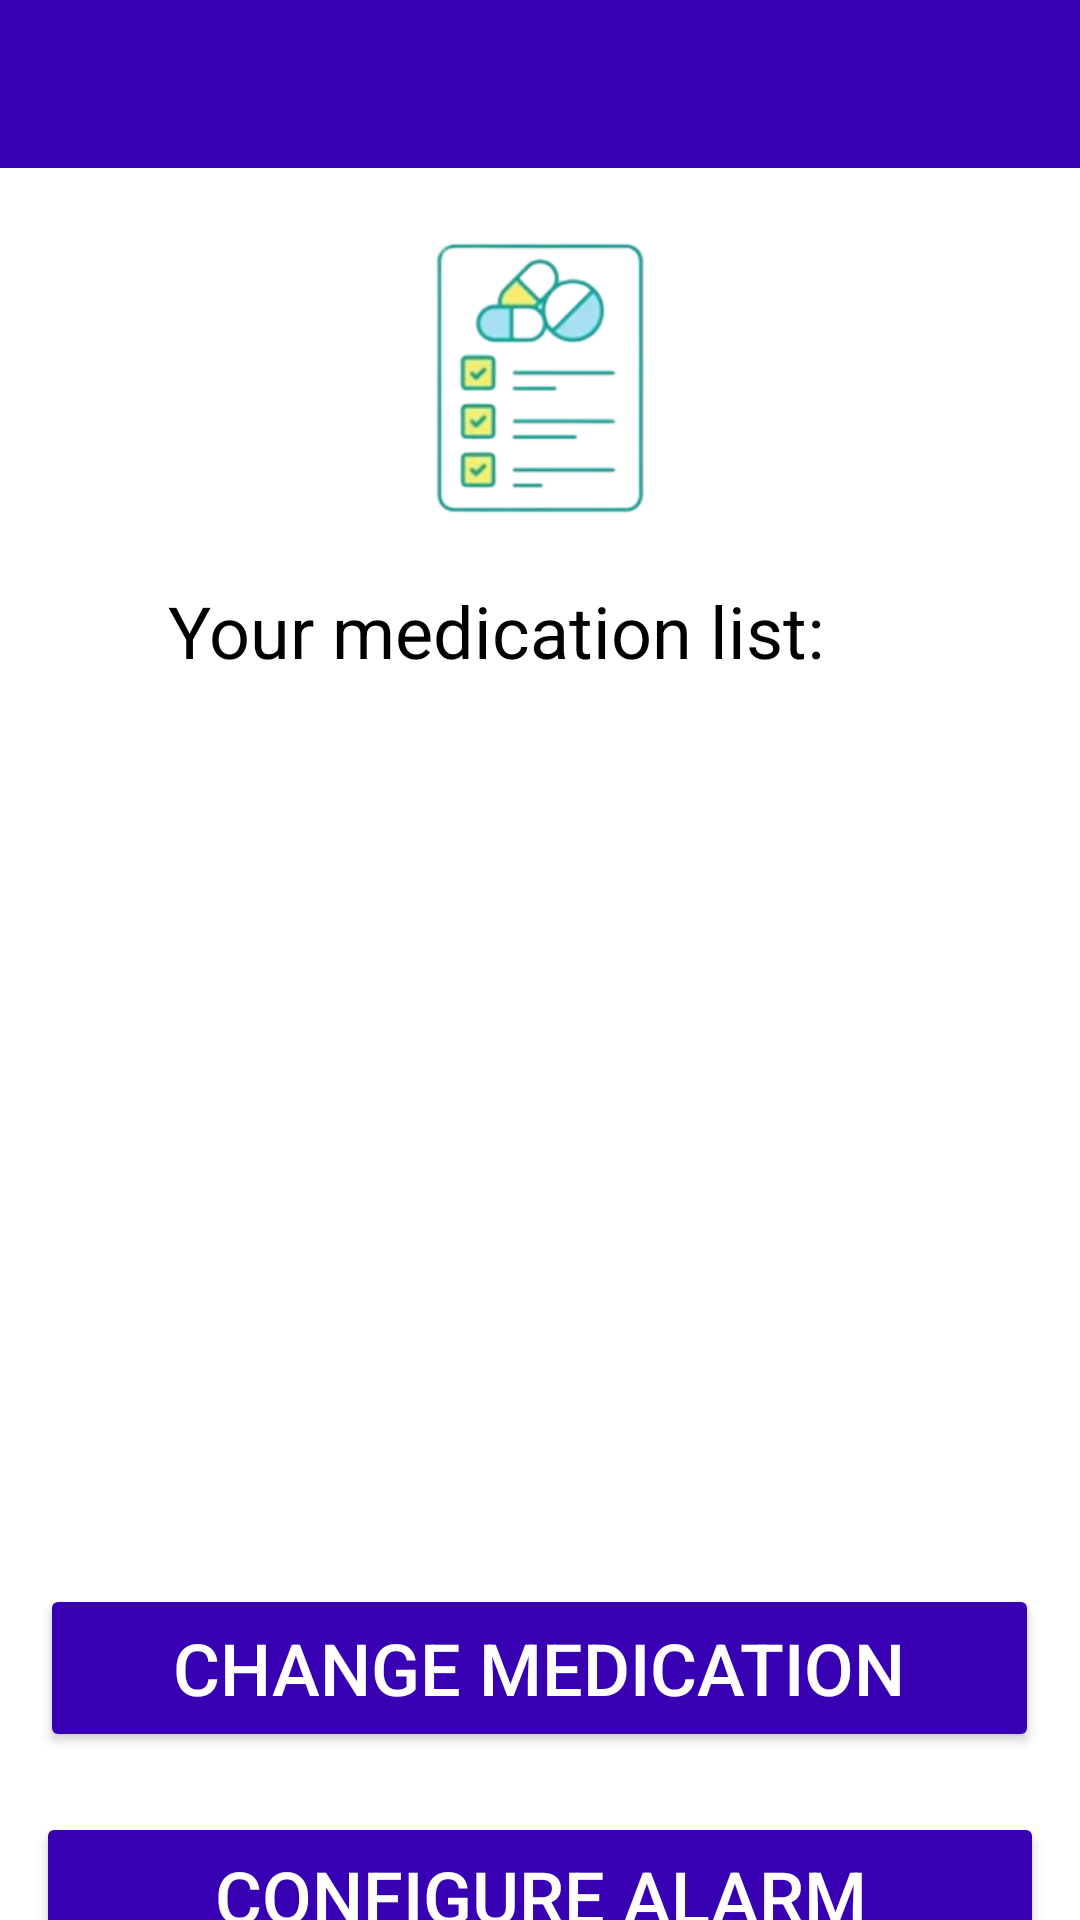

Point at icon controls on the screen. Image size 1080*1920, points as (x,y).
lista meds: (540,378)
